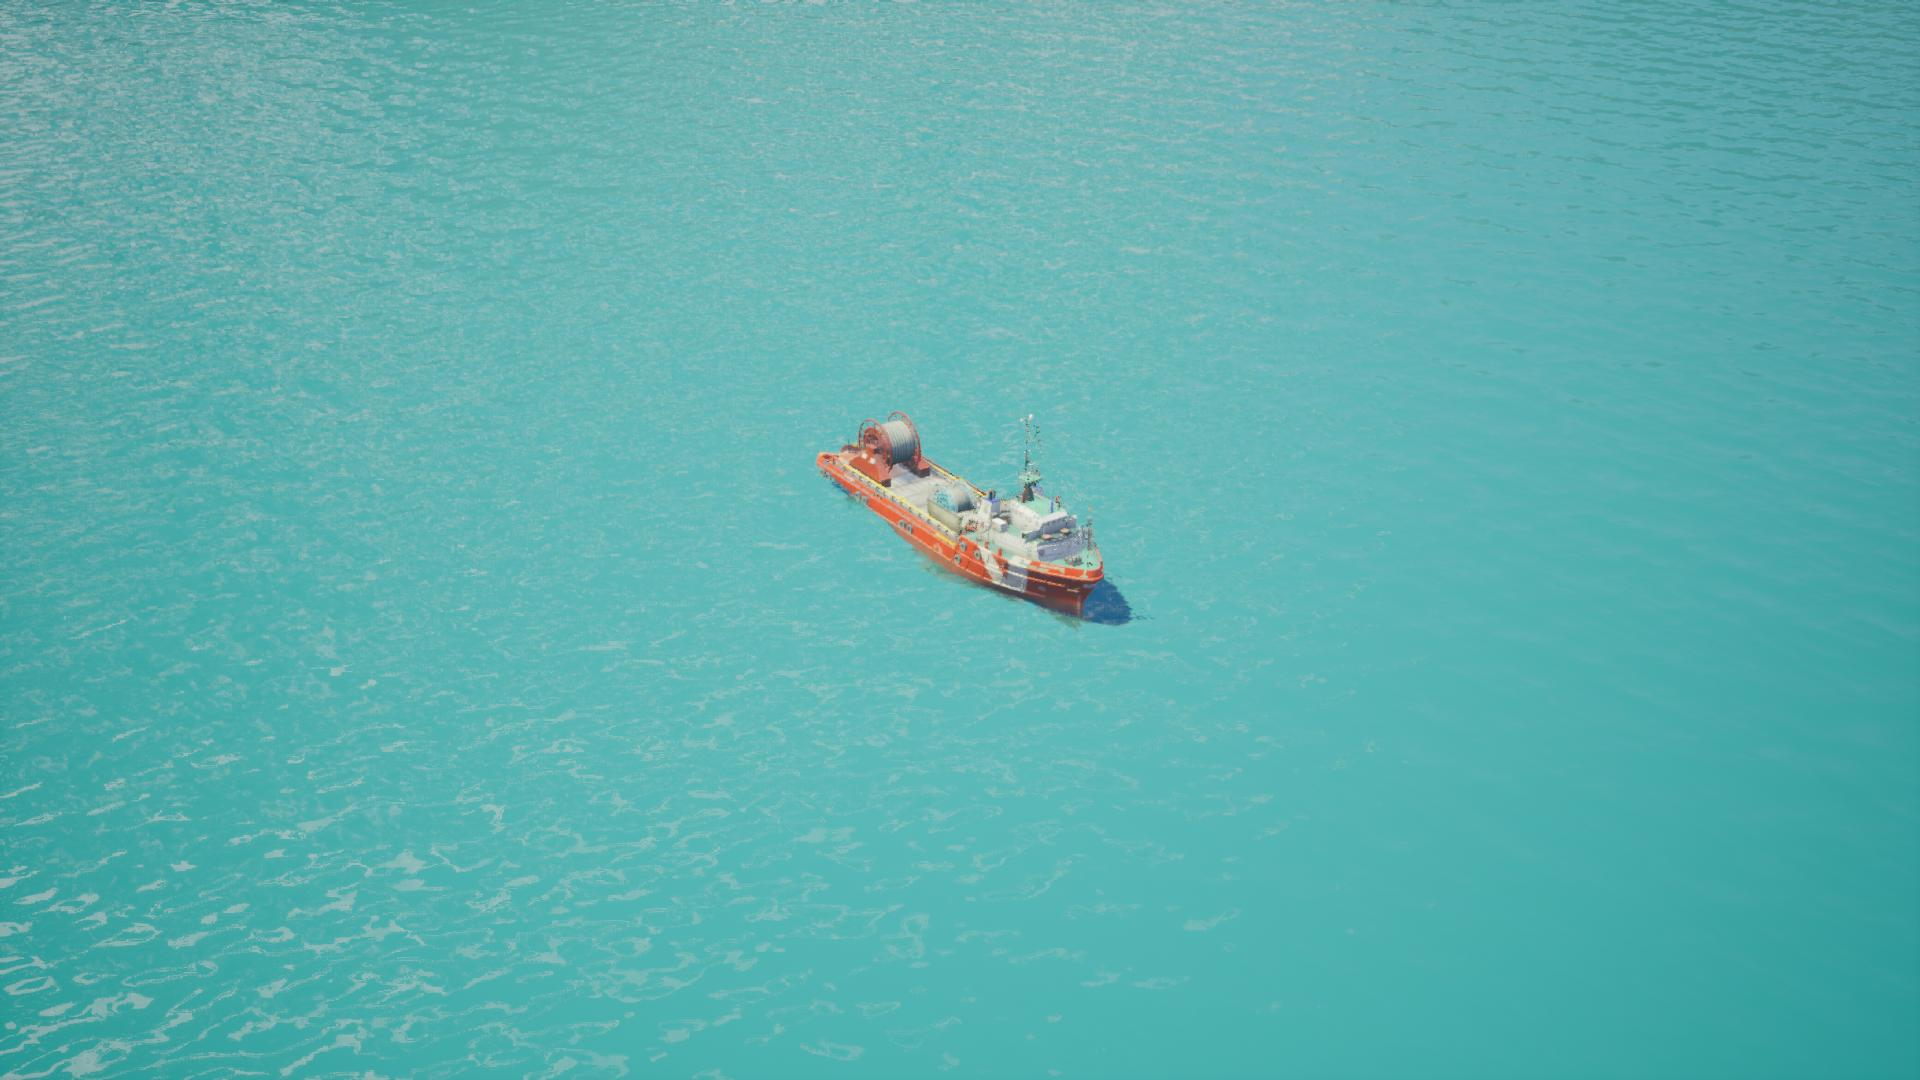Tug Boat: (791, 377, 1180, 669)
